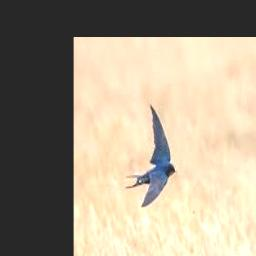Swallow: (126, 104, 176, 206)
